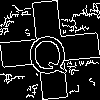Q: (25, 25, 70, 78)
